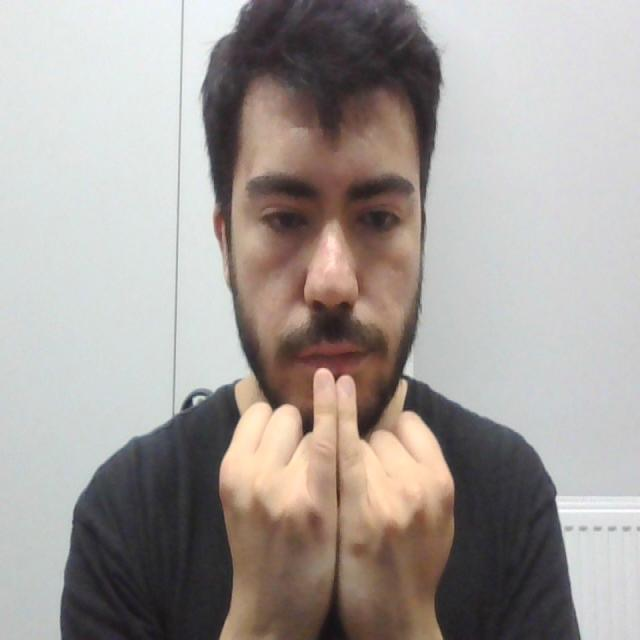Kardes: (217, 364, 462, 629)
